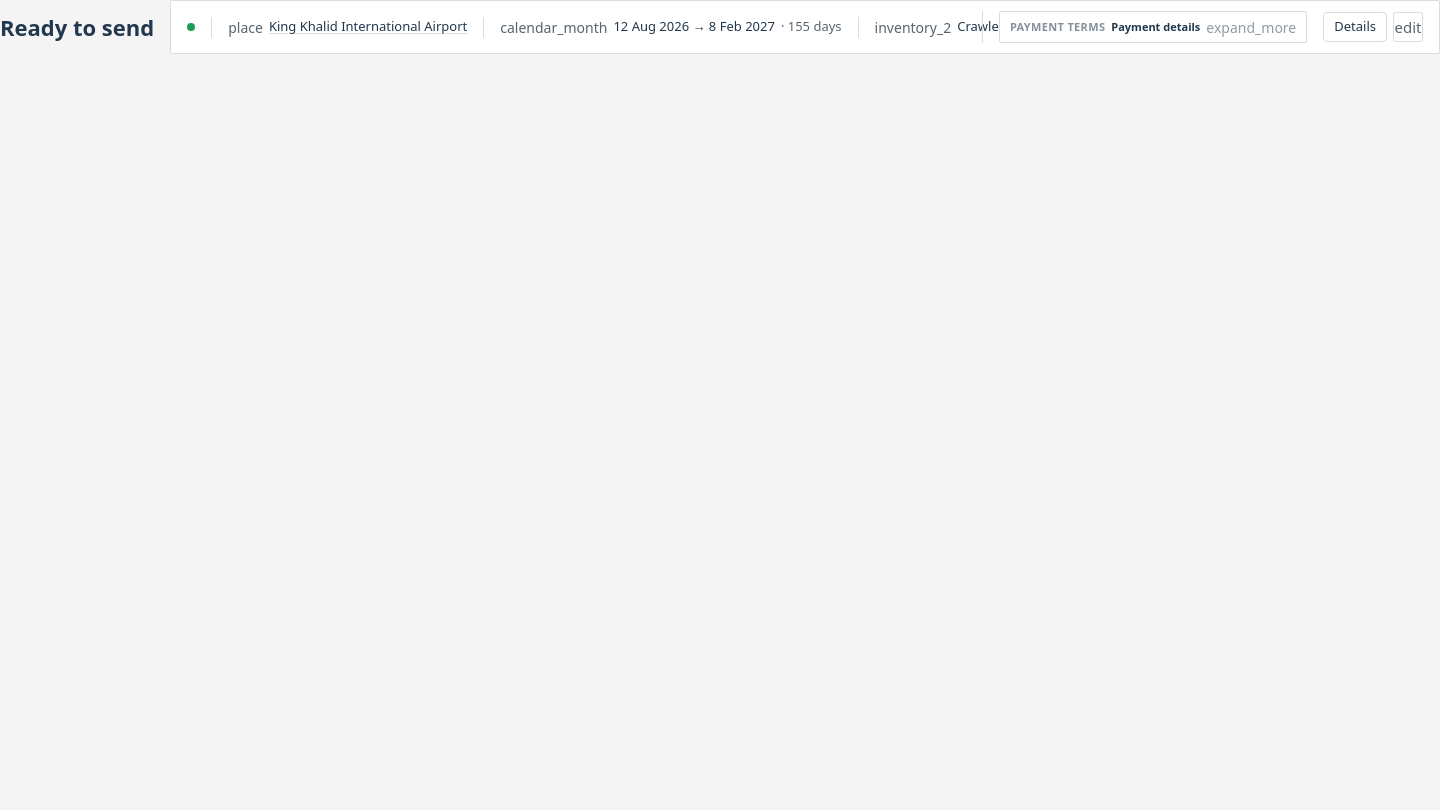
Test: what suppliers will see (MREQ-AC-42) › summarises the site, schedule and charged days
Click the button "Details" at x=1355, y=27, box [1323, 12, 1387, 42]
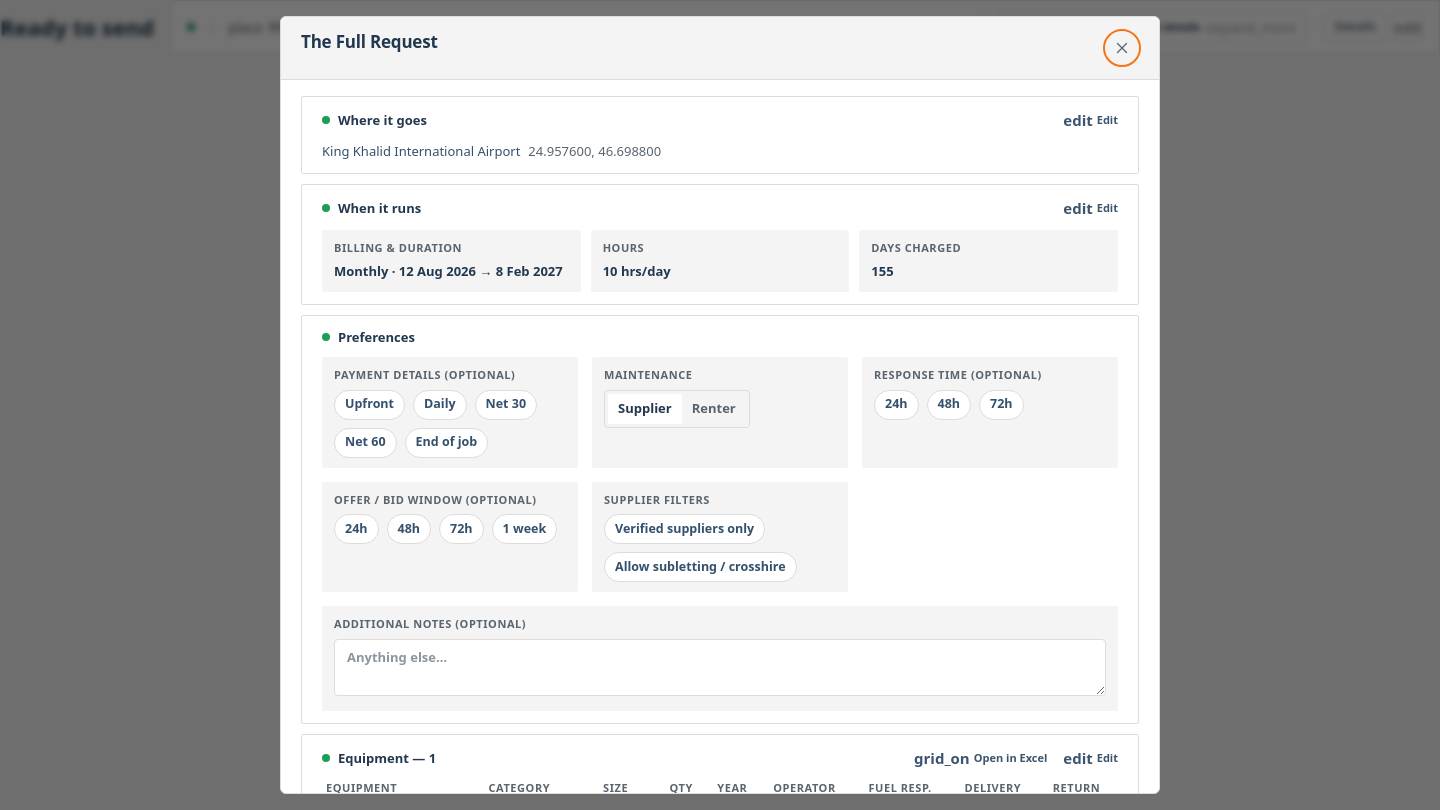
Check: the text "King Khalid International Airport24.957600, 46.698800" is shown, box [322, 142, 661, 160]
Check: the text "DAYS CHARGED" is shown, box [871, 240, 961, 254]
Check: the text "155" is shown, box [871, 262, 894, 280]
